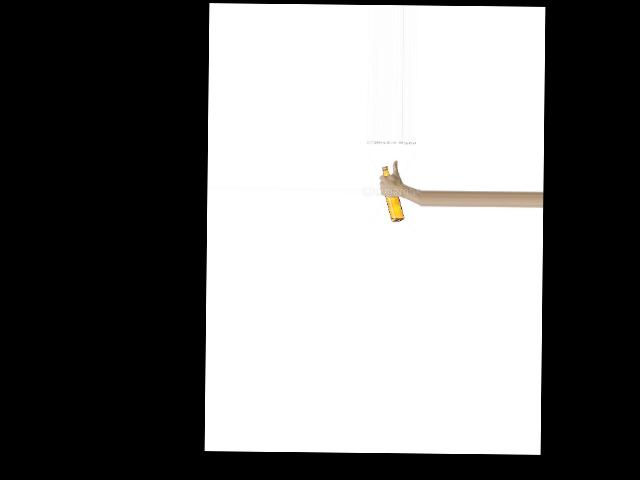beer: (381, 166, 405, 222)
